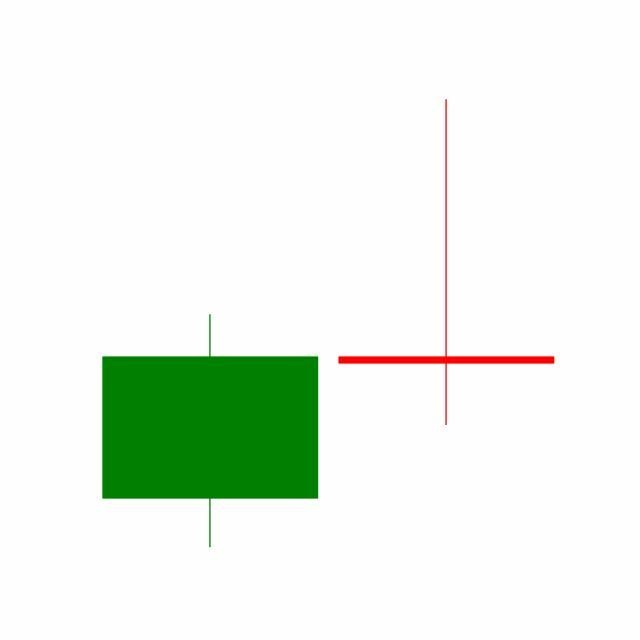Spinning Top: (328, 96, 566, 429)
